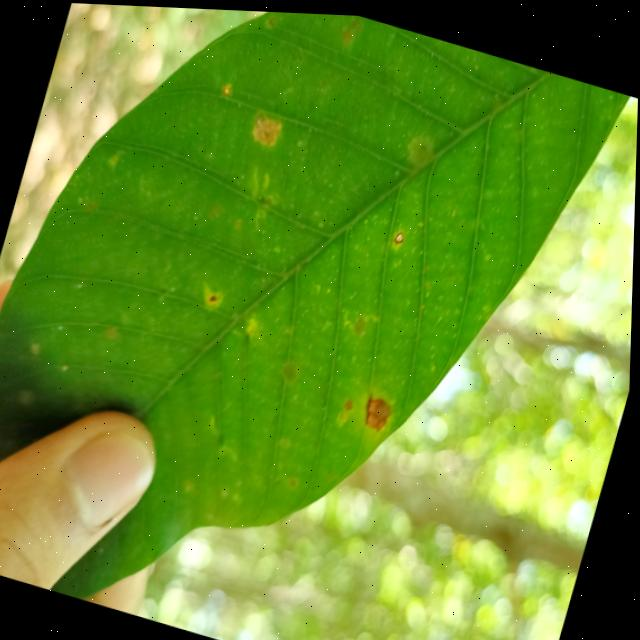Colletotrichum: (394, 226, 405, 240)
Leaf-Blight: (361, 390, 395, 429)
